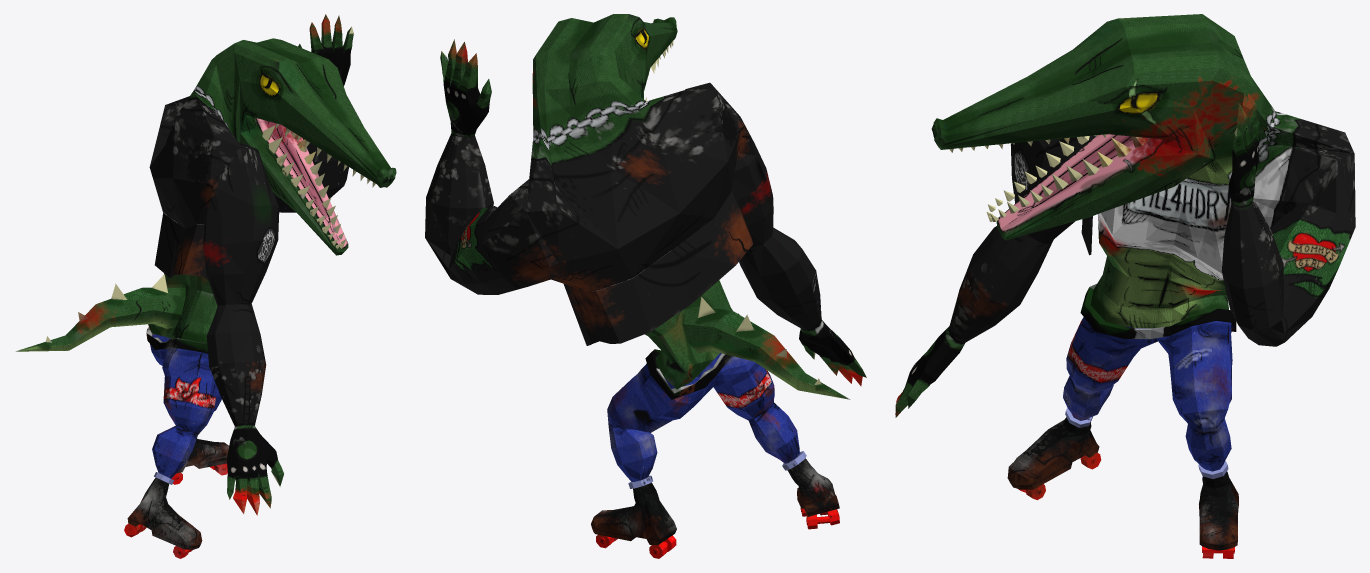
File: cocodrilaBonesSelect_000052.obj
3 views of the same model, side by side, from view 1: azimuth 30°, elevation 25°; view 2: azimuth 150°, elevation 25°; view 3: azimuth 270°, elevation 25° (orthographic). The views are drawn at different scales.
Visible parts, largest first — view 1: Crocodile.002_Cylinder.002; view 2: Crocodile.002_Cylinder.002; view 3: Crocodile.002_Cylinder.002.
Part boxes in pixels (x1,y1,x2,y2): Crocodile.002_Cylinder.002: (15,14,396,558); Crocodile.002_Cylinder.002: (425,14,866,558); Crocodile.002_Cylinder.002: (895,14,1355,558).
Size of the model in its own units: 5.23 by 6.17 by 4.62.
